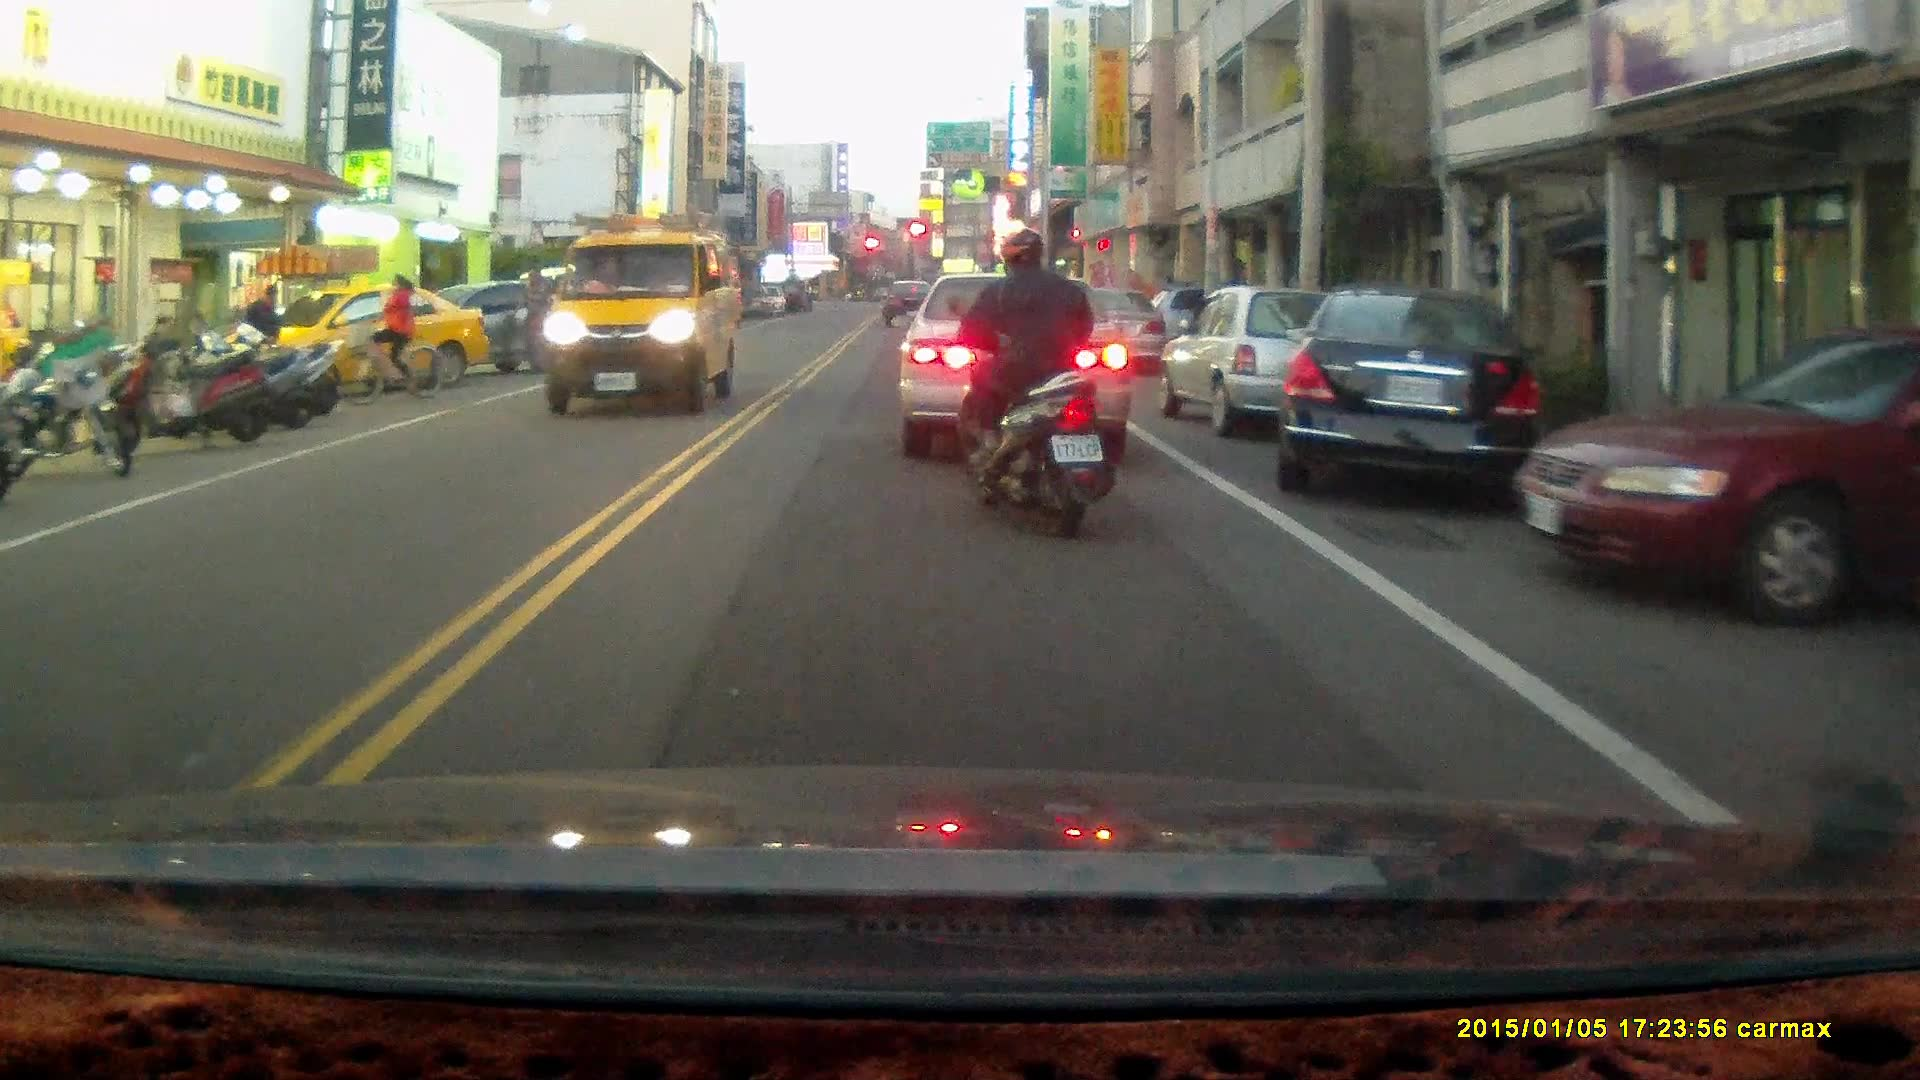pedestrian: (241, 284, 284, 381), (514, 266, 553, 373)
rider: (947, 229, 1113, 543), (339, 274, 442, 408)
vehicle: (1513, 326, 1920, 637), (1285, 284, 1550, 513), (905, 268, 1144, 455), (541, 215, 741, 416), (1152, 285, 1378, 441), (264, 288, 492, 396)
